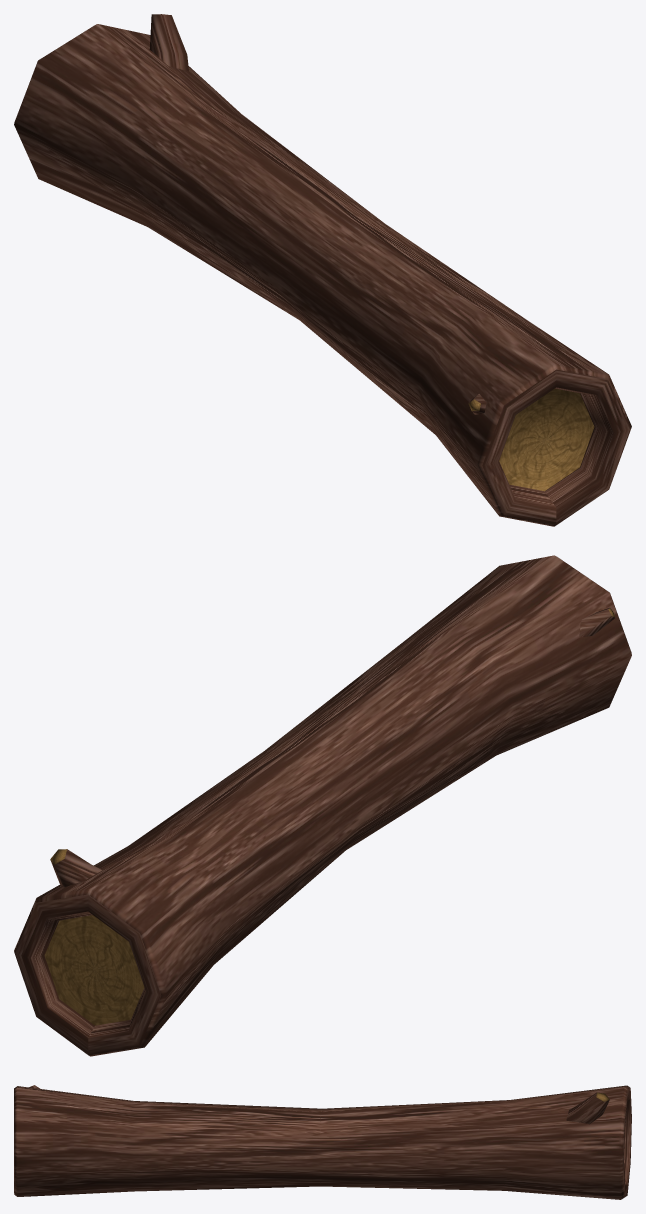
The model's file is Veg_Trunk_05_Art.fbx.
The picture shows the model from 3 angles, top to bottom: view 1: azimuth 30°, elevation 25°; view 2: azimuth 150°, elevation 25°; view 3: azimuth 270°, elevation 25°; orthographic projection. The views are drawn at different scales.
Visible parts, largest first — view 1: Veg_Trunk_05; view 2: Veg_Trunk_05; view 3: Veg_Trunk_05.
Boxes of the visible parts, x1,y1,x2,y2 form: Veg_Trunk_05: (14,14,631,526); Veg_Trunk_05: (14,555,631,1056); Veg_Trunk_05: (14,1085,631,1199).
Size of what is drawn, in the model's own units: 50.32 by 54.23 by 254.
